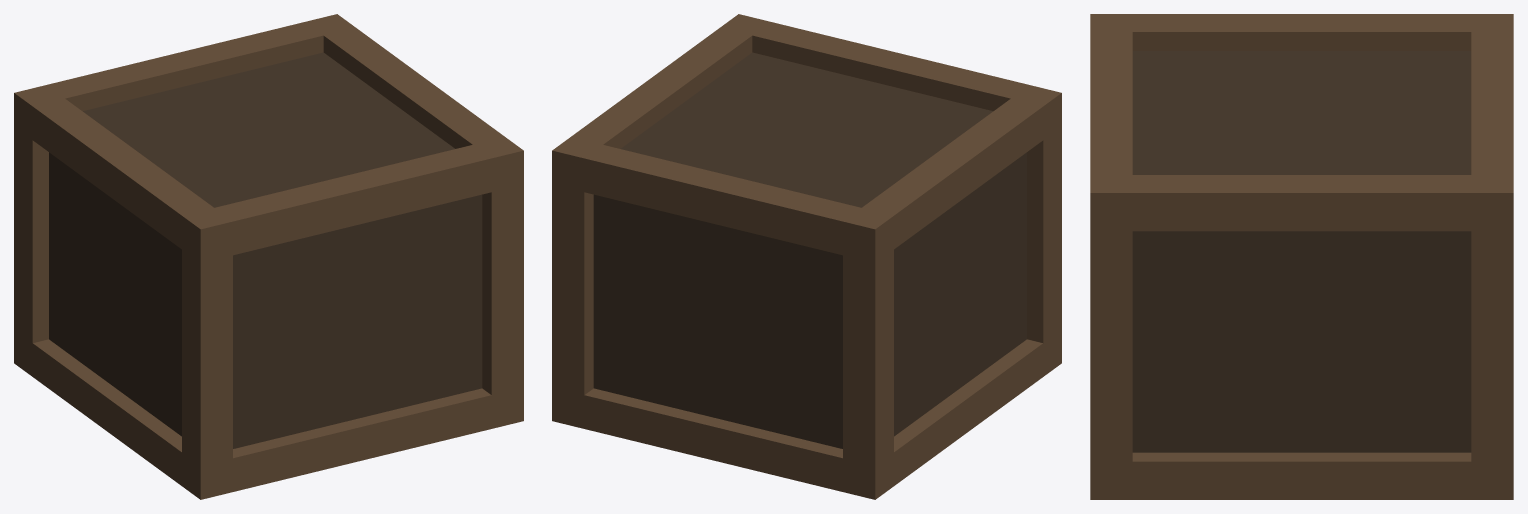
File: IngredientBox.fbx
3 views of the same model, side by side, from view 1: azimuth 30°, elevation 25°; view 2: azimuth 150°, elevation 25°; view 3: azimuth 270°, elevation 25° (orthographic). The views are drawn at different scales.
Visible parts, largest first — view 1: Cube; view 2: Cube; view 3: Cube.
Boxes of the visible parts, x1,y1,x2,y2 form: Cube: [14, 14, 523, 499]; Cube: [552, 14, 1061, 499]; Cube: [1090, 14, 1513, 499].
Bounding box in the file's own units: 100 × 80 × 100.
